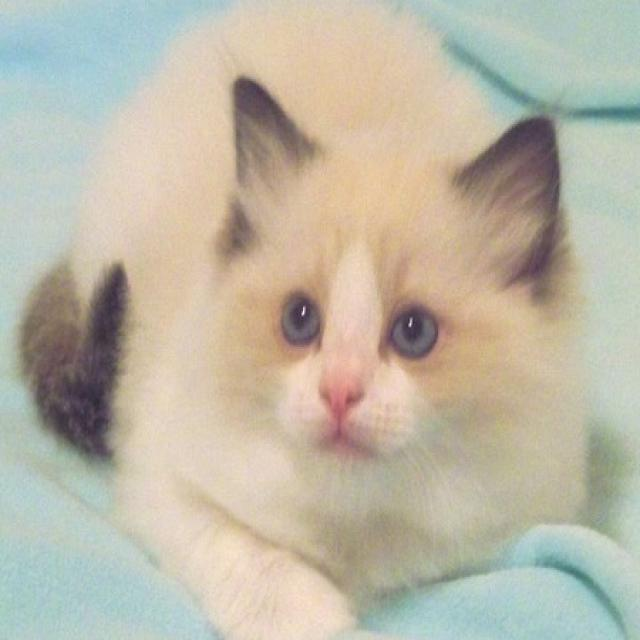Ragdoll: (14, 0, 600, 640)
